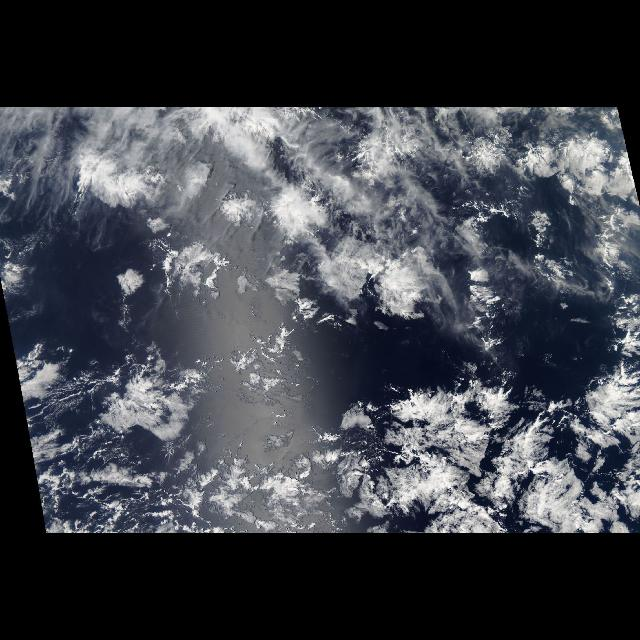Flower: (247, 206, 488, 360)
